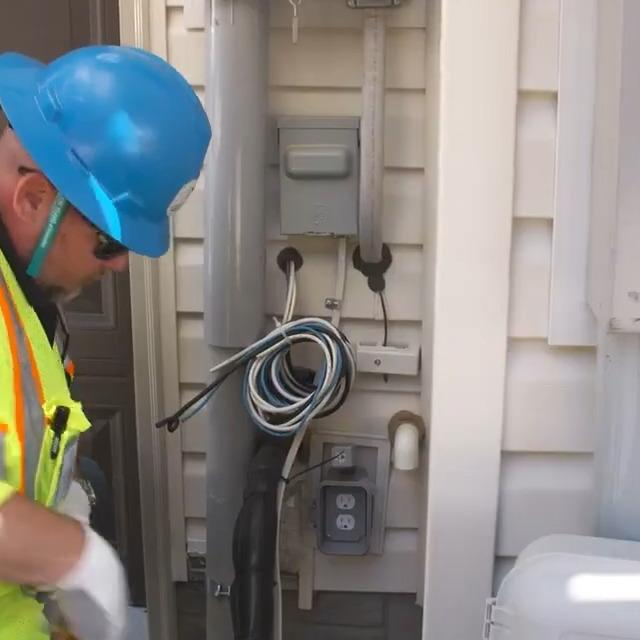Gloves: (54, 530, 125, 640)
Hardhat: (0, 45, 211, 261)
NO-Mask: (42, 247, 101, 312)
Person: (0, 44, 212, 640)
Safety Vest: (0, 162, 89, 640)
